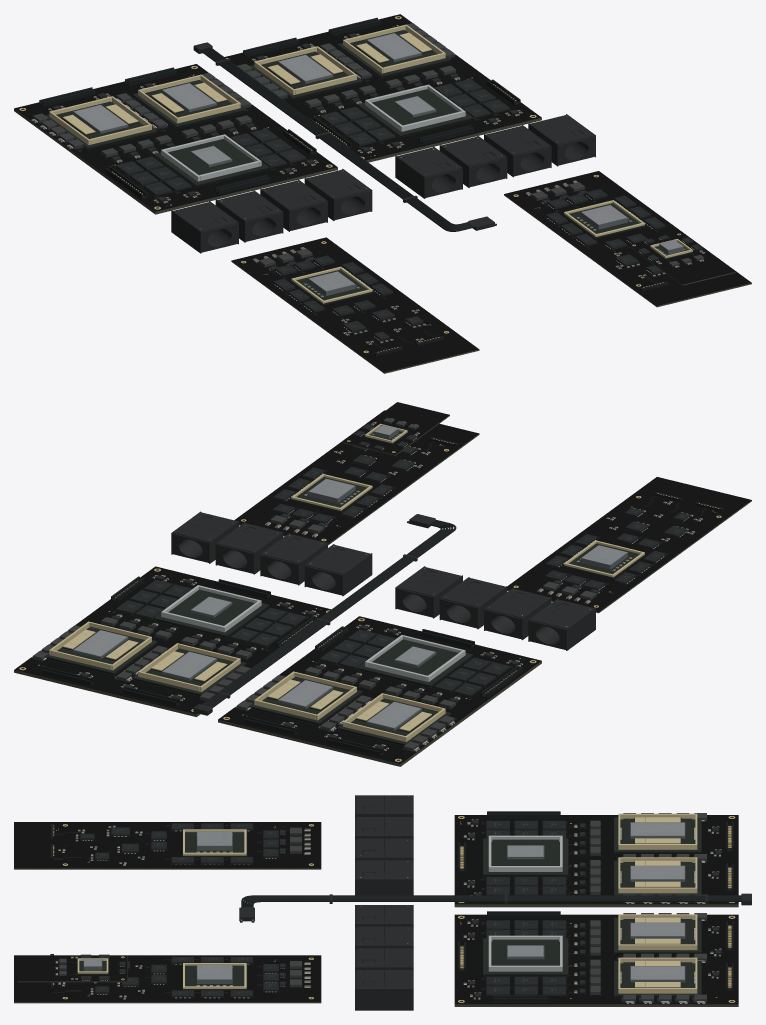
The model's file is bare-compute-boards.glb.
3 views of the same model, one above another, from view 1: azimuth 30°, elevation 25°; view 2: azimuth 150°, elevation 25°; view 3: azimuth 270°, elevation 25° (orthographic).
Visible parts, largest first — view 1: Bare Board 0 / io / io, Bare Board 1 / board / board, Bare Board 2 / board / board, Bare Board 1 / network / BF3-L, Bare Board 2 / network / BF3-R, Bare Board 2 / packages / Board2/GPU_B, Bare Board 1 / packages / Board1/GPU_B, Bare Board 2 / packages / Board2/CPU, Bare Board 1 / packages / Board1/CPU, Bare Board 2 / packages / Board2/GPU_A, Bare Board 1 / packages / Board1/GPU_A, Bare Board 2 / network / CX7-R; view 2: Bare Board 0 / io / io, Bare Board 1 / board / board, Bare Board 2 / board / board, Bare Board 1 / network / BF3-L, Bare Board 2 / network / BF3-R, Bare Board 1 / packages / Board1/GPU_B, Bare Board 2 / packages / Board2/GPU_B, Bare Board 2 / packages / Board2/CPU, Bare Board 1 / packages / Board1/CPU, Bare Board 2 / packages / Board2/GPU_A, Bare Board 1 / packages / Board1/GPU_A, Bare Board 2 / network / CX7-R; view 3: Bare Board 2 / board / board, Bare Board 0 / io / io, Bare Board 1 / board / board, Bare Board 1 / network / BF3-L, Bare Board 2 / network / BF3-R, Bare Board 1 / packages / Board1/CPU, Bare Board 2 / packages / Board2/CPU, Bare Board 1 / packages / Board1/GPU_A, Bare Board 2 / packages / Board2/GPU_A, Bare Board 2 / packages / Board2/GPU_B, Bare Board 1 / packages / Board1/GPU_B, Bare Board 2 / network / CX7-R.
Part boxes in pixels (x1,y1,x2,y2): Bare Board 0 / io / io: (171,42,595,253); Bare Board 1 / board / board: (14,64,337,214); Bare Board 2 / board / board: (224,14,541,162); Bare Board 1 / network / BF3-L: (231,237,479,373); Bare Board 2 / network / BF3-R: (504,171,751,307); Bare Board 2 / packages / Board2/GPU_B: (337,24,451,77); Bare Board 1 / packages / Board1/GPU_B: (132,74,246,127); Bare Board 2 / packages / Board2/CPU: (357,84,473,136); Bare Board 1 / packages / Board1/CPU: (153,134,269,186); Bare Board 2 / packages / Board2/GPU_A: (249,46,362,99); Bare Board 1 / packages / Board1/GPU_A: (45,96,157,149); Bare Board 2 / network / CX7-R: (627,232,735,285); Bare Board 0 / io / io: (171,511,595,715); Bare Board 1 / board / board: (218,616,541,766); Bare Board 2 / board / board: (14,566,330,716); Bare Board 1 / network / BF3-L: (507,477,751,613); Bare Board 2 / network / BF3-R: (234,410,479,545); Bare Board 1 / packages / Board1/GPU_B: (248,671,362,724); Bare Board 2 / packages / Board2/GPU_B: (45,621,157,674); Bare Board 2 / packages / Board2/CPU: (153,585,269,637); Bare Board 1 / packages / Board1/CPU: (357,635,473,687); Bare Board 2 / packages / Board2/GPU_A: (132,643,246,695); Bare Board 1 / packages / Board1/GPU_A: (337,693,451,745); Bare Board 2 / network / CX7-R: (342,402,449,455); Bare Board 2 / board / board: (454,911,738,1006); Bare Board 0 / io / io: (239,795,751,1010); Bare Board 1 / board / board: (454,811,738,907); Bare Board 1 / network / BF3-L: (14,822,321,869); Bare Board 2 / network / BF3-R: (14,954,321,1003); Bare Board 1 / packages / Board1/CPU: (483,835,568,876); Bare Board 2 / packages / Board2/CPU: (483,935,568,976); Bare Board 1 / packages / Board1/GPU_A: (614,813,701,853); Bare Board 2 / packages / Board2/GPU_A: (614,914,701,954); Bare Board 2 / packages / Board2/GPU_B: (614,957,701,997); Bare Board 1 / packages / Board1/GPU_B: (614,857,701,895); Bare Board 2 / network / CX7-R: (17,954,127,982).
Bounding box in the file's own units: 3.74 × 0.198 × 6.03.
29 materials, 14 textured.
